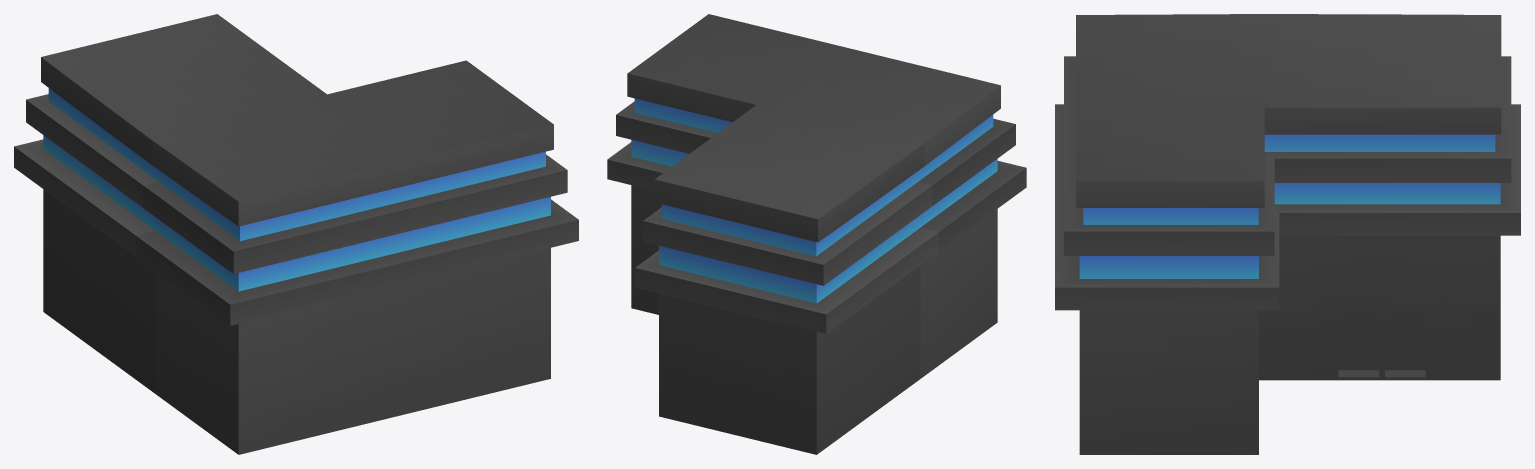
File: torre_porta_01.fbx
The picture shows the model from 3 angles, left to right: view 1: azimuth 30°, elevation 25°; view 2: azimuth 150°, elevation 25°; view 3: azimuth 270°, elevation 25°; orthographic projection. The views are drawn at different scales.
Parts seen in each view (by area): view 1: Plane.008; view 2: Plane.008; view 3: Plane.008.
Boxes of the visible parts, x1,y1,x2,y2 form: Plane.008: (14, 14, 578, 454); Plane.008: (607, 14, 1026, 454); Plane.008: (1055, 14, 1520, 454).
Size of the model in its own units: 3306 by 2312 by 3554.
